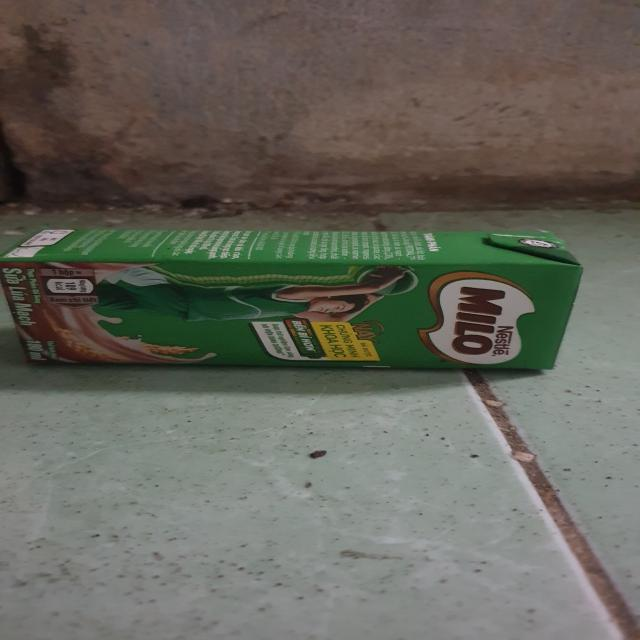Milo: (7, 227, 591, 378)
